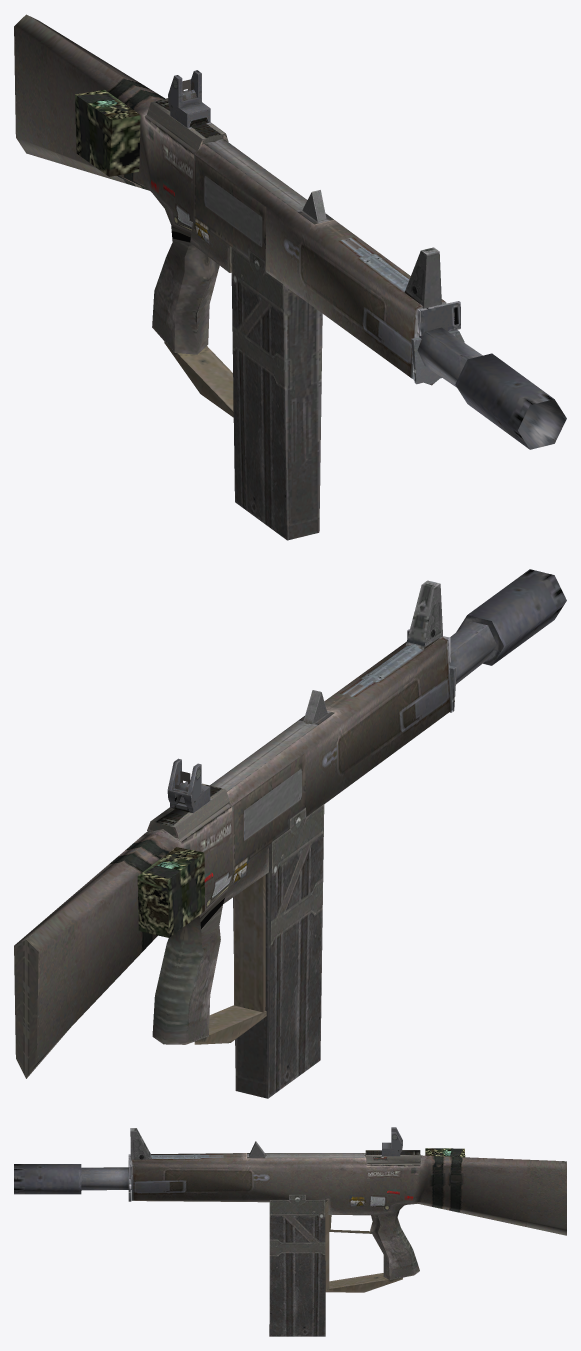
Rendered from Shotgun_sdq_03_lod2_Body_LOD_(001006).glb.
3 views of the same model, one above another, from view 1: azimuth 30°, elevation 25°; view 2: azimuth 150°, elevation 25°; view 3: azimuth 270°, elevation 25° (orthographic). The views are drawn at different scales.
Parts seen in each view (by area): view 1: sdq_03_lod2; view 2: sdq_03_lod2; view 3: sdq_03_lod2.
Boxes of the visible parts, left/top/right/bottom form: sdq_03_lod2: left=14, top=14, right=566, bottom=540; sdq_03_lod2: left=14, top=569, right=566, bottom=1098; sdq_03_lod2: left=14, top=1127, right=566, bottom=1336.
Size of the model in its own units: 0.1101 by 0.5127 by 1.27.
1 material, 1 textured.
